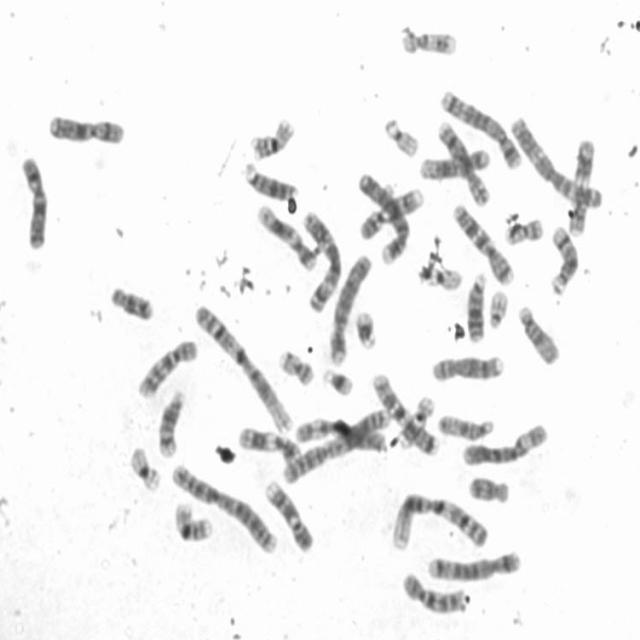A1: (192, 303, 295, 436), (391, 492, 490, 551)
A2: (168, 462, 280, 556), (281, 406, 392, 487)
A3: (511, 115, 605, 210), (302, 209, 344, 315)
B4: (356, 171, 412, 266), (328, 252, 373, 368)
B5: (439, 89, 523, 171), (426, 548, 522, 584)
C10: (137, 337, 199, 402), (400, 570, 466, 616)
C11: (566, 137, 596, 238), (238, 427, 302, 468)
C12: (256, 202, 318, 272), (418, 148, 490, 183)
C6: (459, 423, 550, 469), (293, 416, 388, 454)
C7: (370, 372, 440, 457), (452, 202, 516, 287)
C8: (436, 118, 492, 207), (430, 354, 504, 383)
C9: (261, 478, 315, 552), (358, 187, 426, 243)
D13: (244, 160, 299, 200), (464, 272, 488, 344)
D14: (156, 386, 188, 459), (548, 225, 579, 297)
D15: (518, 303, 561, 367), (437, 413, 495, 442)
E16: (249, 115, 295, 163), (172, 499, 215, 544)
E17: (397, 394, 436, 450), (402, 28, 458, 56)
E18: (109, 285, 155, 322), (466, 475, 511, 505)
F19: (128, 444, 162, 493), (423, 266, 462, 293)
F20: (277, 348, 315, 388), (504, 218, 544, 246)
G21: (353, 309, 377, 352), (323, 368, 354, 398)
G22: (384, 119, 420, 160), (488, 288, 510, 329)
X: (19, 152, 51, 254), (47, 113, 126, 147)
